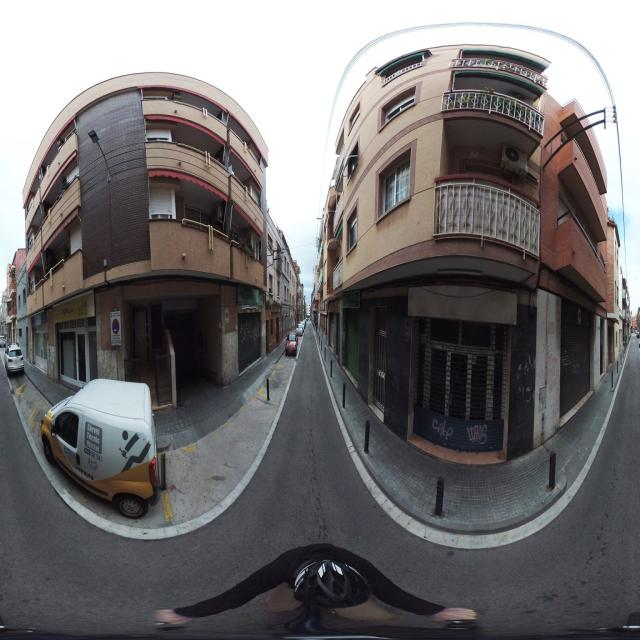forb_stopping: (112, 320, 119, 333)
